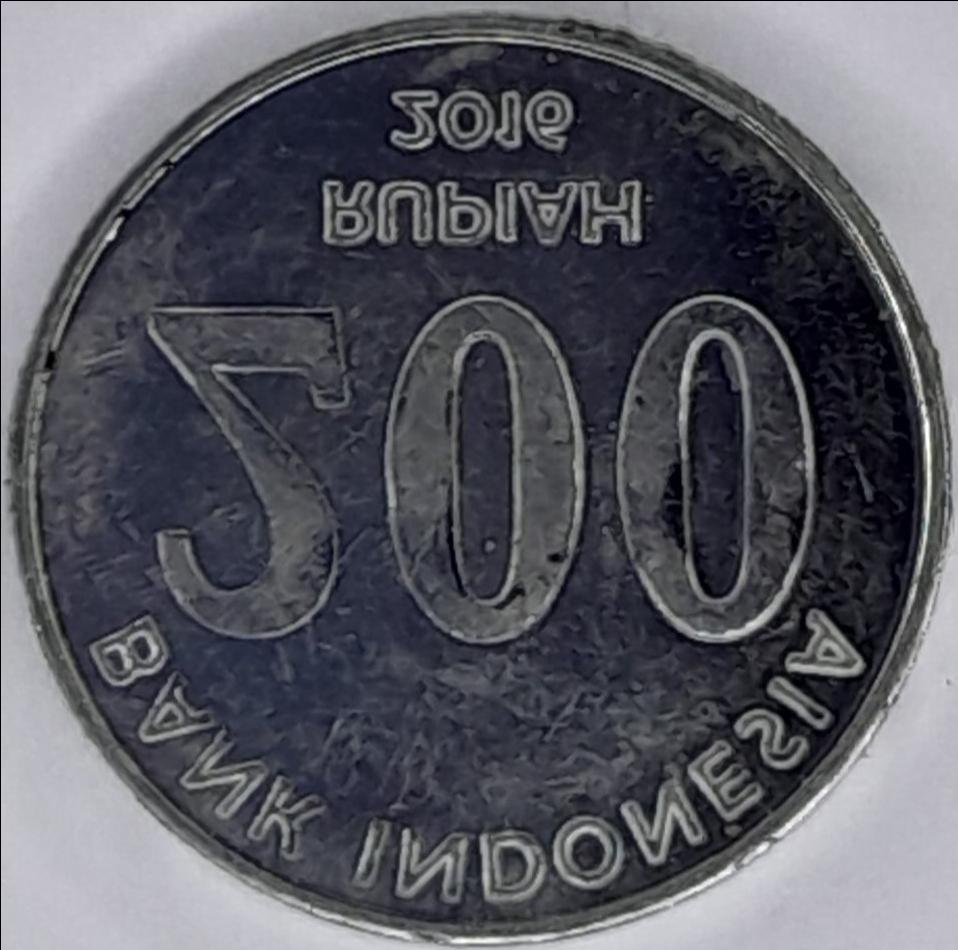coin_200_e2016: (0, 16, 958, 950)
